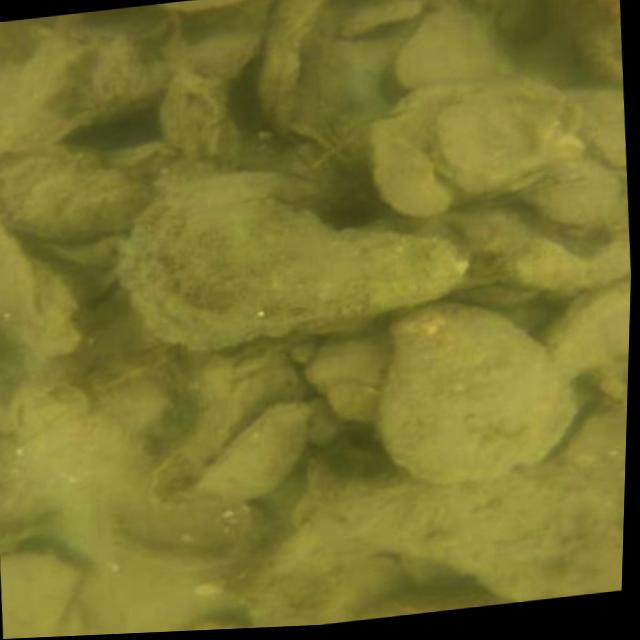Oyster-Closed: (441, 85, 585, 206)
Oyster-Indeterminate: (118, 171, 462, 346), (238, 450, 626, 604), (376, 301, 572, 485), (152, 348, 307, 508), (361, 85, 481, 217), (0, 141, 150, 238), (196, 402, 306, 502), (251, 556, 400, 626), (396, 4, 509, 84), (545, 280, 630, 386), (2, 552, 77, 639), (534, 171, 626, 233), (553, 0, 619, 86), (303, 319, 389, 384)
